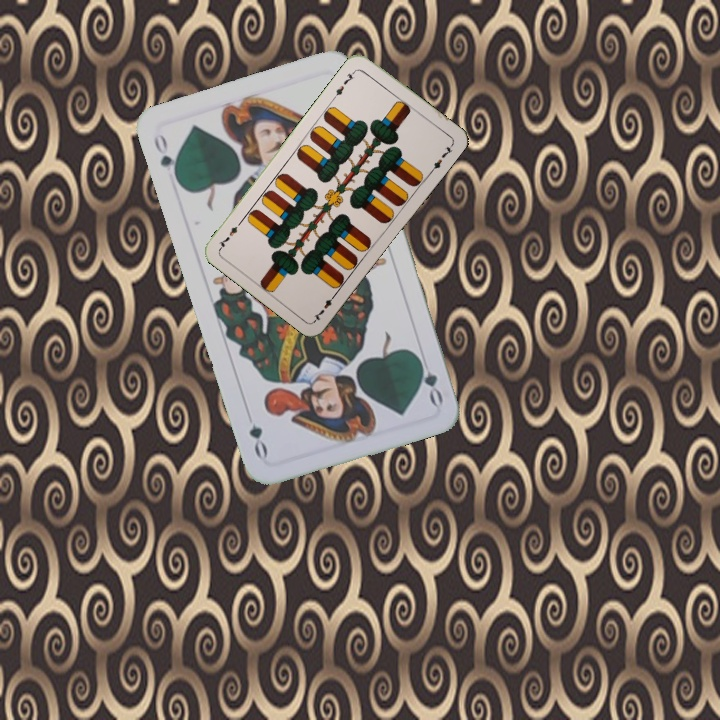E7: (309, 289, 340, 323), (329, 66, 359, 101)
GO: (412, 350, 446, 408), (149, 129, 181, 186)
